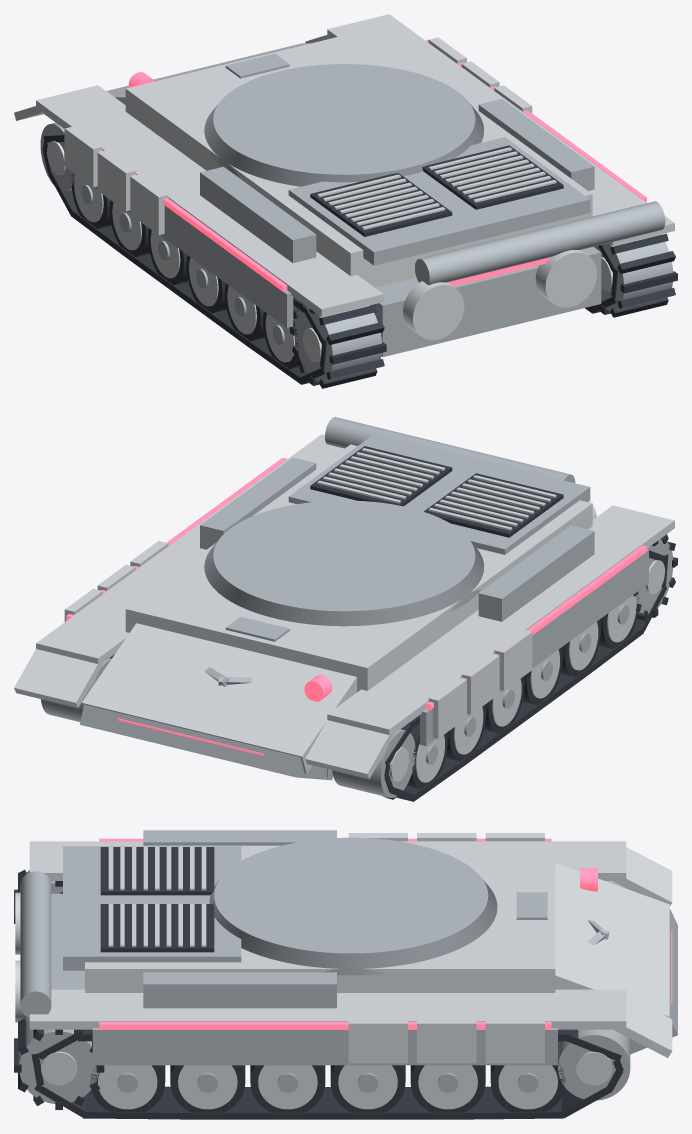
The model's file is RapidFire_hull.glb.
The picture shows the model from 3 angles, top to bottom: view 1: azimuth 30°, elevation 25°; view 2: azimuth 150°, elevation 25°; view 3: azimuth 270°, elevation 25°; orthographic projection. The views are drawn at different scales.
Parts seen in each view (by area): view 1: RapidFire_Hull; view 2: RapidFire_Hull; view 3: RapidFire_Hull.
Part boxes in pixels (x1,y1,x2,y2): RapidFire_Hull: [14, 14, 677, 388]; RapidFire_Hull: [14, 417, 677, 801]; RapidFire_Hull: [14, 830, 677, 1119].
Bounding box in the file's own units: 3.49 × 1.21 × 5.14.
